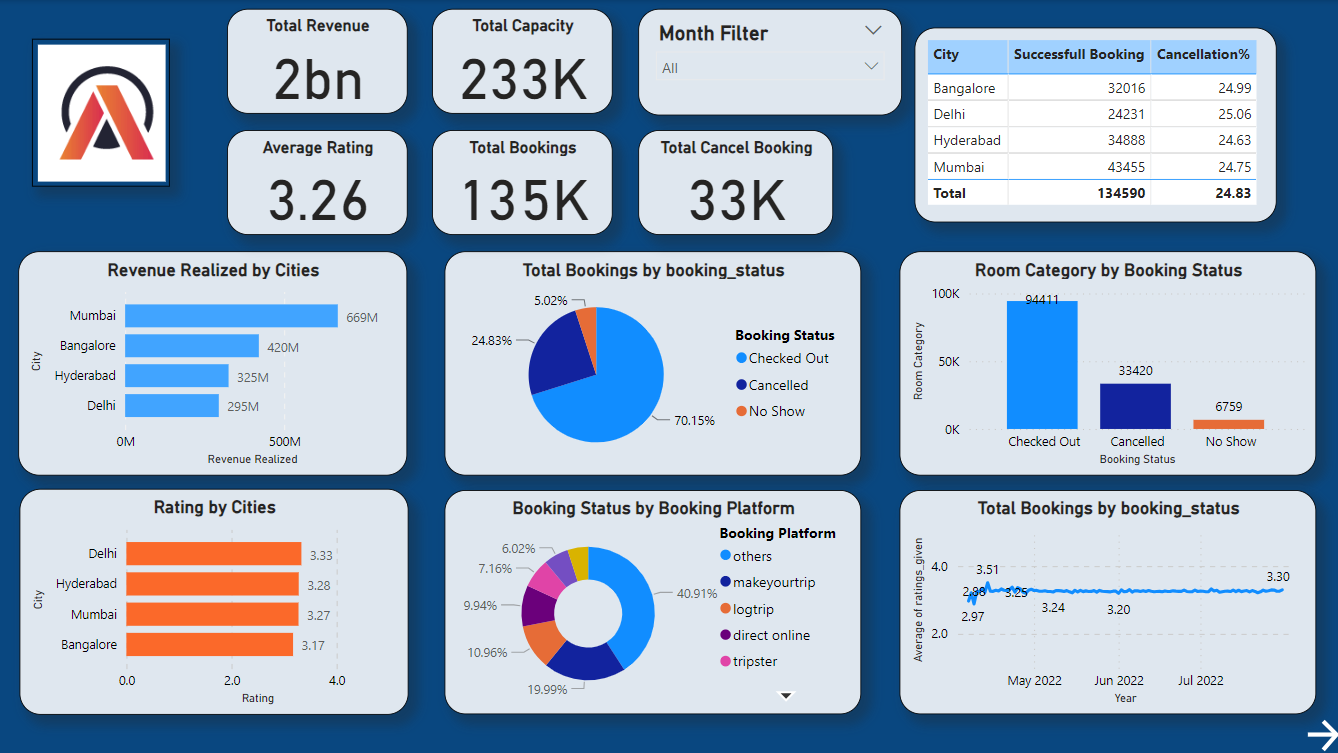

This screenshot's page, from the dashboard's own definition file:
{"tool":"powerbi","page":{"name":"Page 1","canvas":[1280,720],"ordinal":0},"visuals":[{"type":"card","title":"Total Revenue","fields":{"Values":["fact_bookings.Revenue"]},"box":[218.7,7.8,171.8,100],"z":0},{"type":"slicer","fields":{"Values":["fact_bookings.Month"]},"box":[610.7,7.8,251.5,101.5],"z":1000},{"type":"tableEx","fields":{"Values":["dim_hotel.city","fact_bookings.Successfull Booking","fact_bookings.9. Cancellation%"]},"box":[873.1,26.6,345.2,185.9],"z":2000},{"type":"barChart","title":"Revenue Realized by Cities","fields":{"Category":["dim_hotel.city"],"Y":["Sum(fact_bookings.revenue_realized)"]},"box":[20.3,239,370.2,214],"z":3000},{"type":"barChart","title":"Rating by Cities","fields":{"Category":["dim_hotel.city"],"Y":["fact_bookings.6. Average Rating"]},"box":[21.9,465.4,370.2,215.5],"z":4000},{"type":"pieChart","title":"Total Bookings by booking_status","fields":{"Category":["fact_bookings.booking_status"],"Y":["fact_bookings.2. Total Bookings"]},"box":[426.4,239,396.7,214],"z":5000},{"type":"card","title":"Average Rating","fields":{"Values":["fact_bookings.6. Average Rating"]},"box":[218.7,123.4,171.8,100],"z":6000},{"type":"card","title":"Total Capacity","fields":{"Values":["fact_aggregated_bookings.3. Total Capacity"]},"box":[413.9,7.8,171.8,100],"z":7000},{"type":"card","title":"Total Bookings","fields":{"Values":["fact_bookings.2. Total Bookings"]},"box":[413.9,123.4,171.8,100],"z":8000},{"type":"card","title":"Total Cancel Booking","fields":{"Values":["fact_bookings.8. Total cancelled booking"]},"box":[610.7,123.4,185.9,100],"z":9000},{"type":"donutChart","title":"Booking Status by Booking Platform","fields":{"Category":["fact_bookings.booking_platform"],"Y":["CountNonNull(fact_bookings.booking_status)"]},"box":[426.4,467,396.7,214],"z":10000},{"type":"columnChart","title":"Room Category by Booking Status","fields":{"Y":["CountNonNull(fact_bookings.room_category)"],"Category":["fact_bookings.booking_status"],"Series":["fact_bookings.booking_status"]},"box":[859,239,396.7,214],"z":11000},{"type":"lineChart","title":"Total Bookings by booking_status","fields":{"Y":["Avg(fact_bookings.ratings_given)"],"Category":["fact_bookings.booking_date.Variation.Date Hierarchy.Year","fact_bookings.booking_date.Variation.Date Hierarchy.Quarter","fact_bookings.booking_date.Variation.Date Hierarchy.Month","fact_bookings.booking_date.Variation.Date Hierarchy.Day"]},"box":[859,467,396.7,214],"z":12000},{"type":"image","box":[32.8,37.5,131.2,140.6],"z":13000},{"type":"actionButton","box":[1238.5,681,42.2,39],"z":14000}]}

Visuals, with their boxes in screenshot pixels (x1, y1, x2, y2), scaled from the page's 1280x720 canvas onto the 1338x753 screenshot:
"Total Revenue" card: x1=229, y1=8, x2=408, y2=113
slicer - fact_bookings.Month: x1=638, y1=8, x2=901, y2=114
tableEx - dim_hotel.city x fact_bookings.Successfull Booking: x1=913, y1=28, x2=1274, y2=222
"Revenue Realized by Cities" barChart: x1=21, y1=250, x2=408, y2=474
"Rating by Cities" barChart: x1=23, y1=487, x2=410, y2=712
"Total Bookings by booking_status" pieChart: x1=446, y1=250, x2=860, y2=474
"Average Rating" card: x1=229, y1=129, x2=408, y2=234
"Total Capacity" card: x1=433, y1=8, x2=612, y2=113
"Total Bookings" card: x1=433, y1=129, x2=612, y2=234
"Total Cancel Booking" card: x1=638, y1=129, x2=833, y2=234
"Booking Status by Booking Platform" donutChart: x1=446, y1=488, x2=860, y2=712
"Room Category by Booking Status" columnChart: x1=898, y1=250, x2=1313, y2=474
"Total Bookings by booking_status" lineChart: x1=898, y1=488, x2=1313, y2=712
image: x1=34, y1=39, x2=171, y2=186
actionButton: x1=1295, y1=712, x2=1337, y2=752
